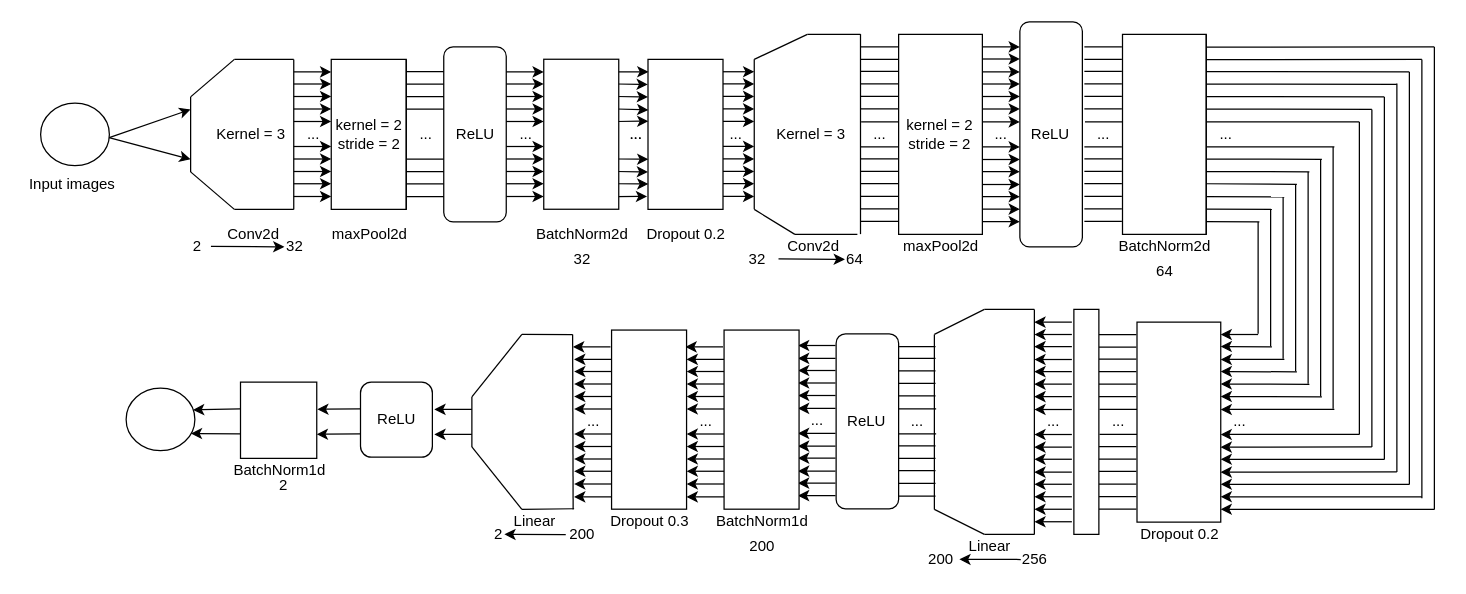
The diagram is 1466 pixels wide and 594 high, and some of its shapes have lost their labels. Here are the shapes that lost their labels. From the top down, the box of each, then its label:
(39, 102, 109, 166): [im1;im2]
(125, 387, 195, 451): Output
(1073, 308, 1099, 534): view(-1)
